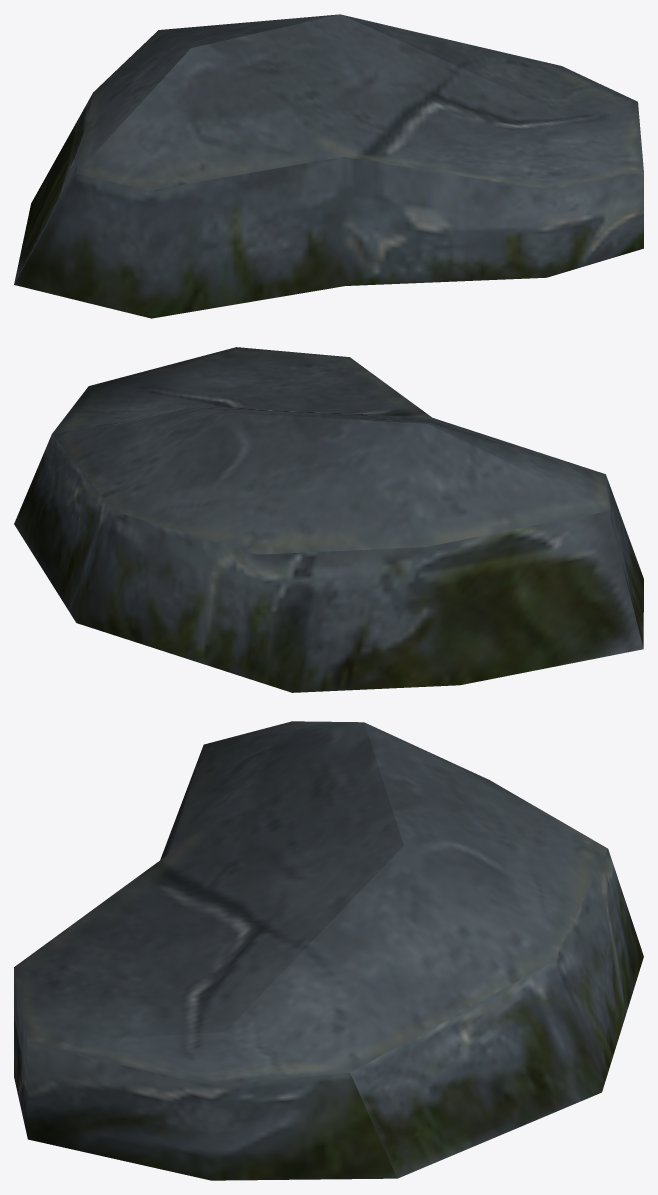
The model's file is C_shitou001.fbx.
3 renders of one model, top to bottom at view 1: azimuth 30°, elevation 25°; view 2: azimuth 150°, elevation 25°; view 3: azimuth 270°, elevation 25°, orthographic. The views are drawn at different scales.
Visible parts, largest first — view 1: C_shitou001; view 2: C_shitou001; view 3: C_shitou001.
Boxes of the visible parts, x1=… form: C_shitou001: x1=14, y1=14, x2=643, y2=318; C_shitou001: x1=14, y1=347, x2=643, y2=692; C_shitou001: x1=14, y1=721, x2=643, y2=1180.
Size of the model in its own units: 97.32 by 28.9 by 73.76.
